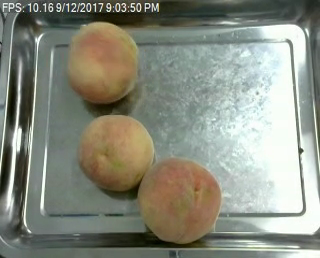Peach: (137, 158, 221, 243), (78, 114, 155, 191), (67, 20, 138, 102)
